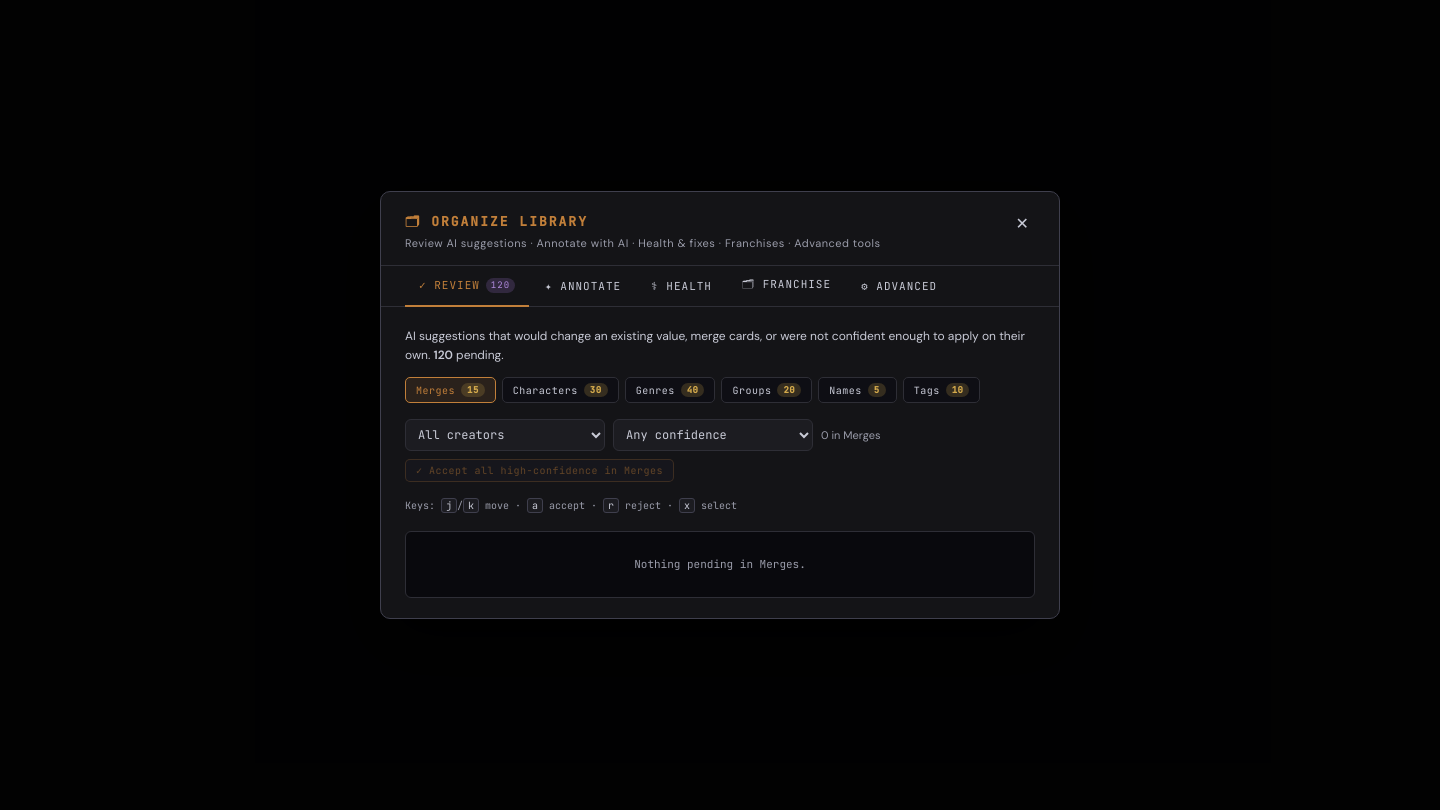
Organize: Review tab (lazy) carries the pending badge; Health has the organizer export
The width and height of the screenshot is (1440, 810).
Check: the text named "120 pending" is shown, box [486,278,515,293]
Check: the element named "Suggestion groups" is shown, box [405,377,1035,403]
Click the tab "⚕ Health": (682, 287) [637,266,726,307]
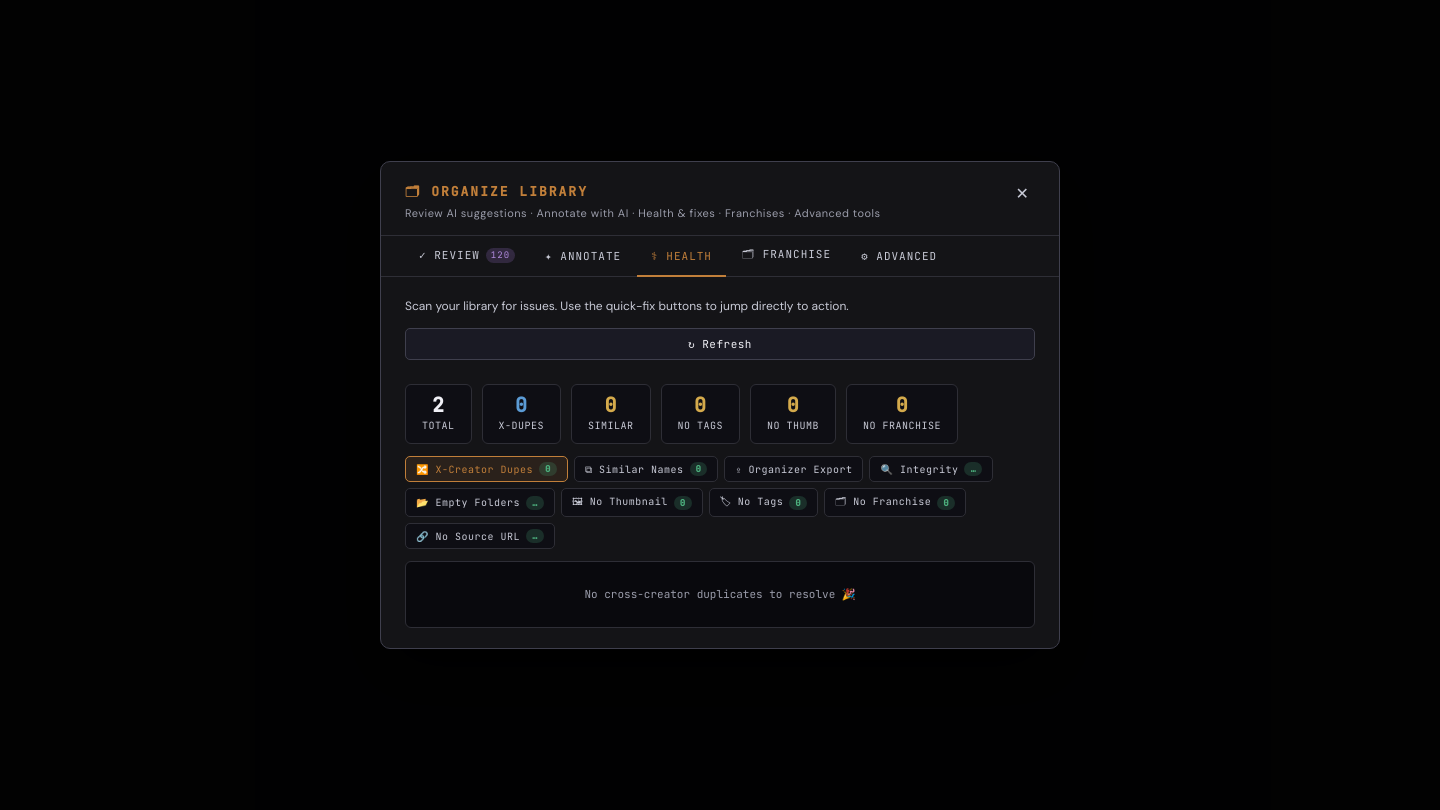
Click the tab "⇪ Organizer Export": (794, 469) [724,456,863,482]
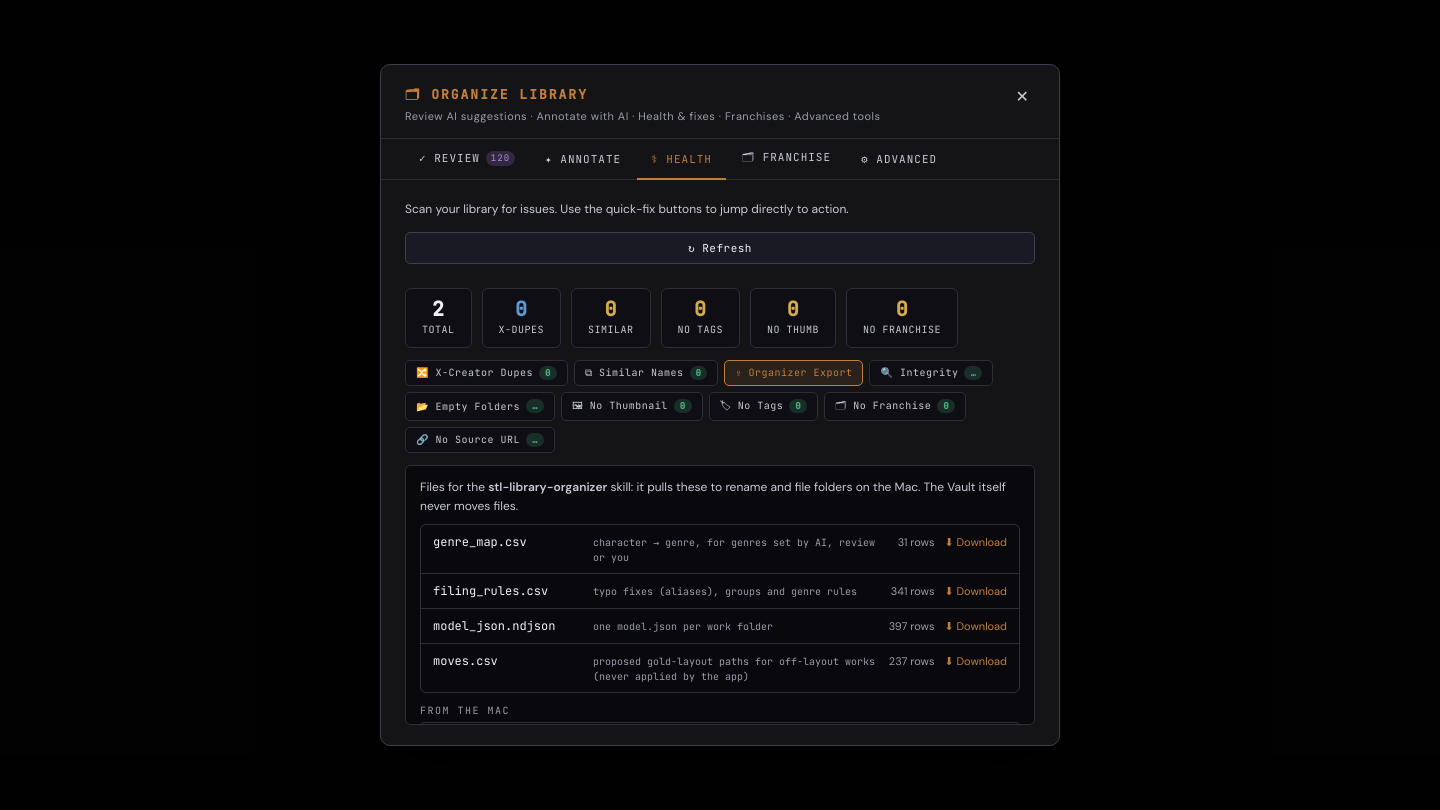
Check: the text "moves.csv" is shown, box [433,653,498,669]
